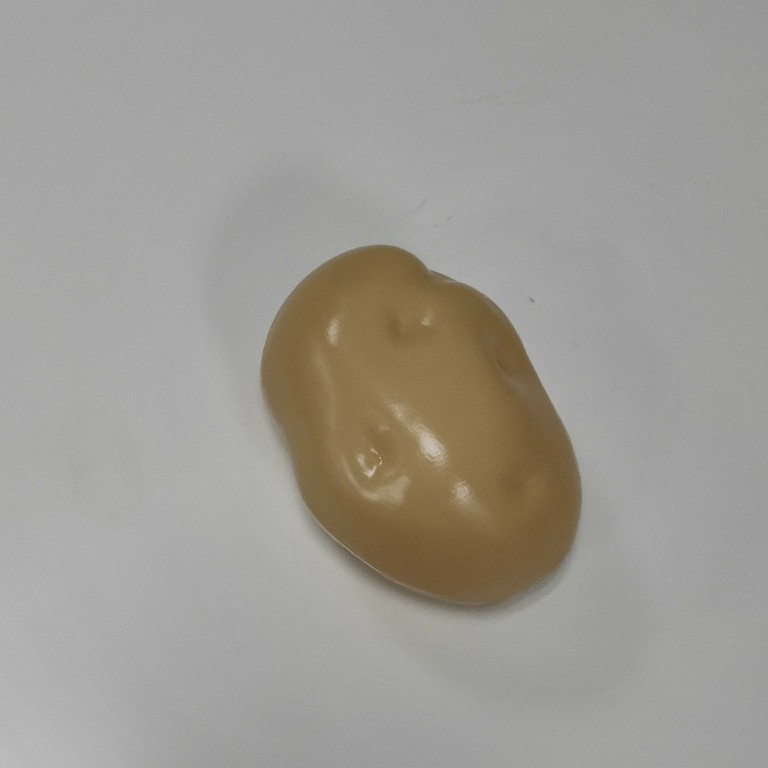fruit_potato: (254, 241, 588, 613)
